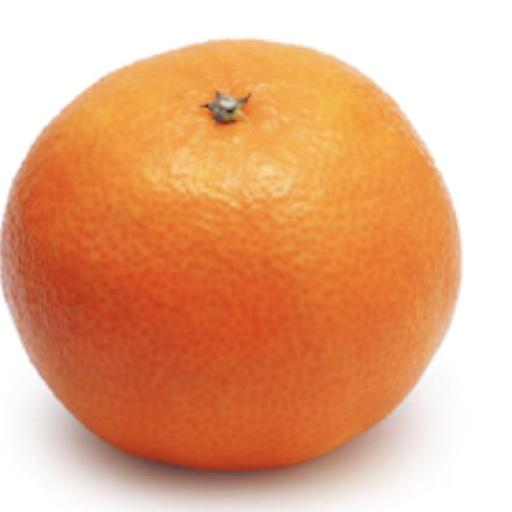orange: (2, 41, 459, 468)
